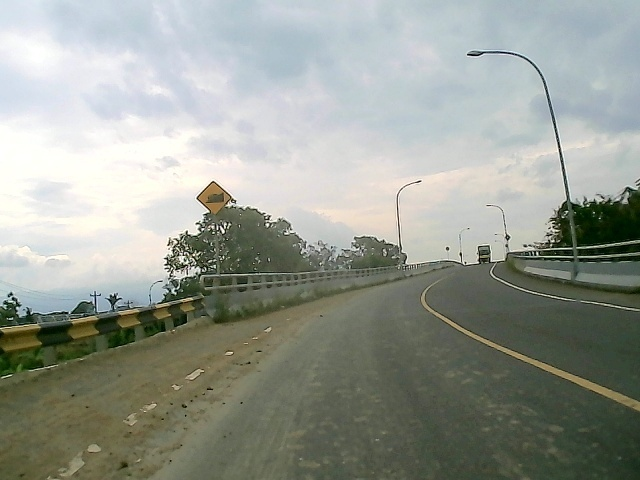Jalanan menanjak: (194, 180, 235, 216)
